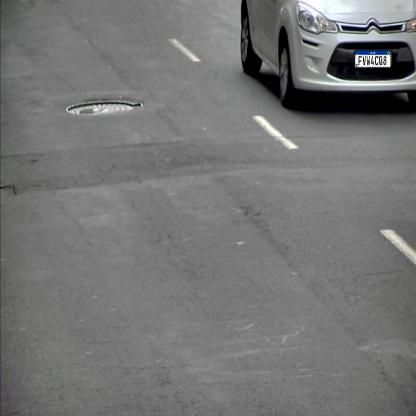PlacaM: (355, 50, 391, 68)
